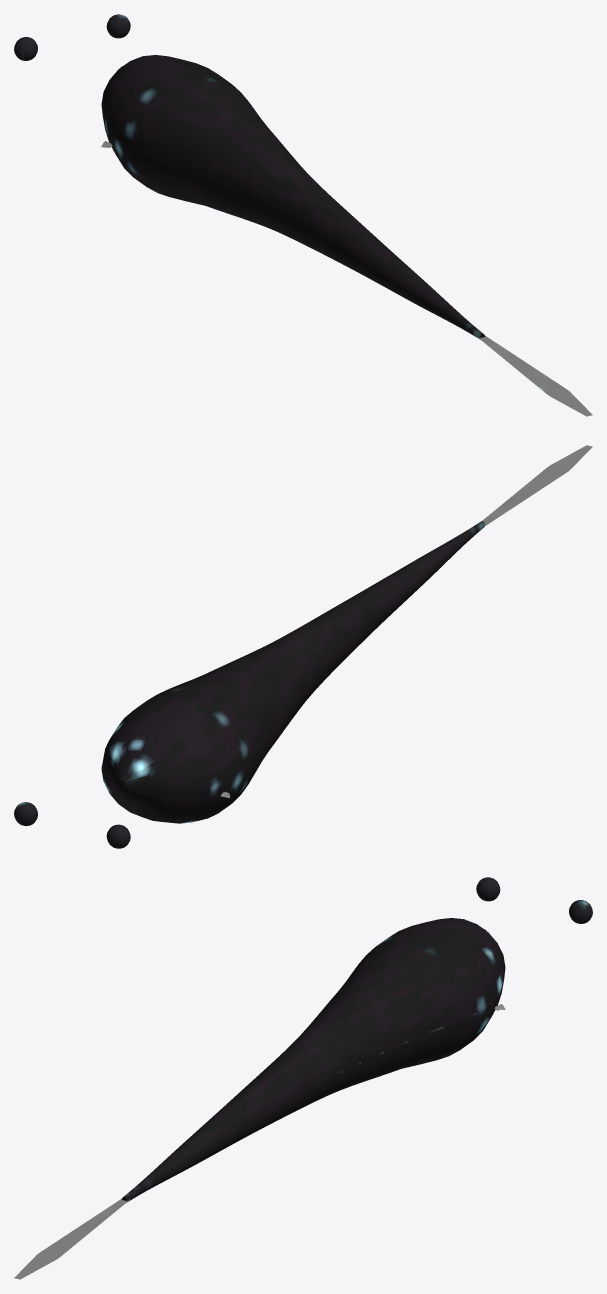
The model's file is eurypharynx_pelecanoides.glb.
3 views of the same model, one above another, from view 1: azimuth 30°, elevation 25°; view 2: azimuth 150°, elevation 25°; view 3: azimuth 330°, elevation 25° (orthographic).
Parts seen in each view (by area): view 1: eurypharynx_pelecanoides; view 2: eurypharynx_pelecanoides; view 3: eurypharynx_pelecanoides.
Boxes of the visible parts, box(x1,y1,x2,y2) form: eurypharynx_pelecanoides: box(14, 14, 592, 416); eurypharynx_pelecanoides: box(14, 445, 592, 848); eurypharynx_pelecanoides: box(14, 877, 592, 1279).
Size of the model in its own units: 0.2071 by 0.1802 by 1.45.
2 materials, 2 textured.
